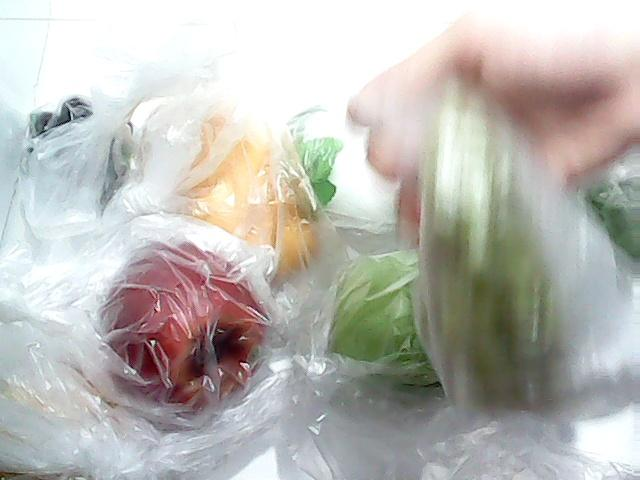apple: (88, 240, 272, 404), (322, 244, 472, 392)
grape: (414, 78, 586, 422), (18, 70, 122, 190)
lemon: (158, 85, 314, 279)
potato: (0, 357, 120, 478)
radish: (280, 100, 414, 236)
